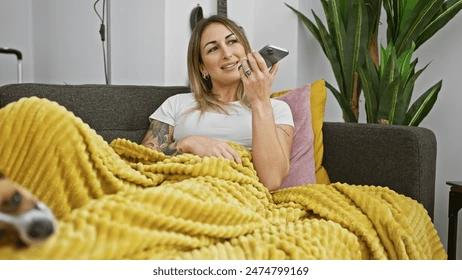blanket: (0, 96, 448, 260)
short sleeve shirt: (150, 91, 295, 161)
